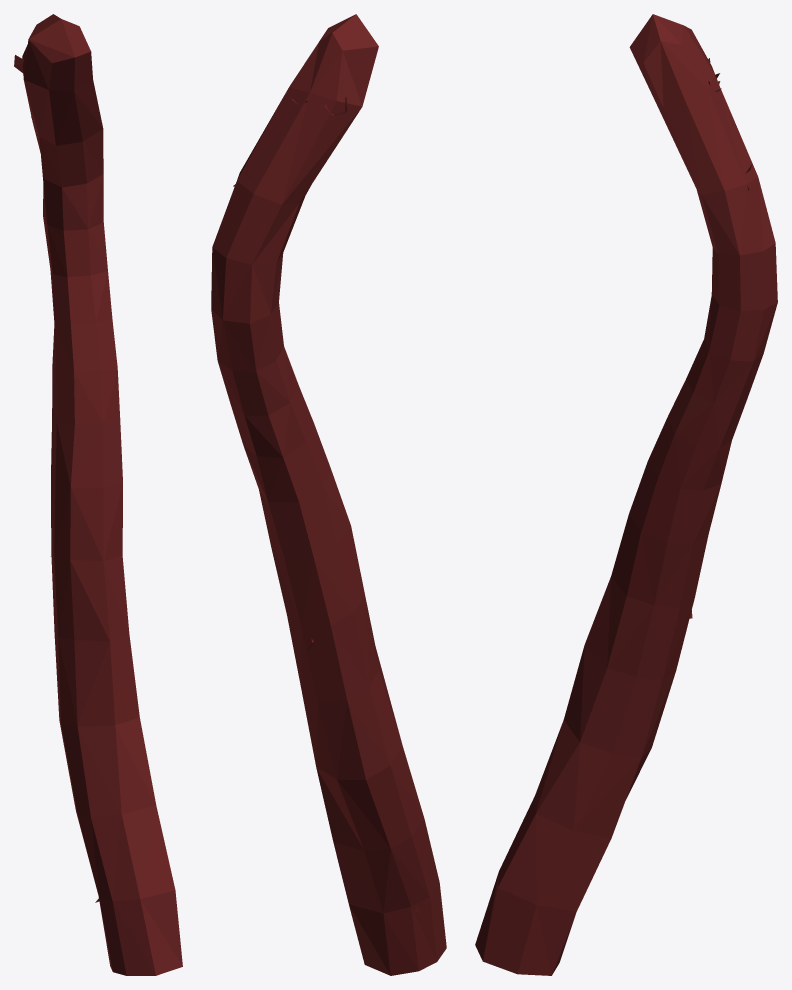
File: Artéria Aorta Descendente2.FBX
3 views of the same model, side by side, from view 1: azimuth 30°, elevation 25°; view 2: azimuth 150°, elevation 25°; view 3: azimuth 270°, elevation 25° (orthographic). The views are drawn at different scales.
Parts seen in each view (by area): view 1: CS_Arterie; view 2: CS_Arterie; view 3: CS_Arterie.
Part boxes in pixels (x1=…): CS_Arterie: x1=14, y1=14, x2=182, y2=975; CS_Arterie: x1=211, y1=14, x2=446, y2=975; CS_Arterie: x1=475, y1=14, x2=777, y2=975.
Size of the model in its own units: 2.43 by 19.16 by 5.59.
